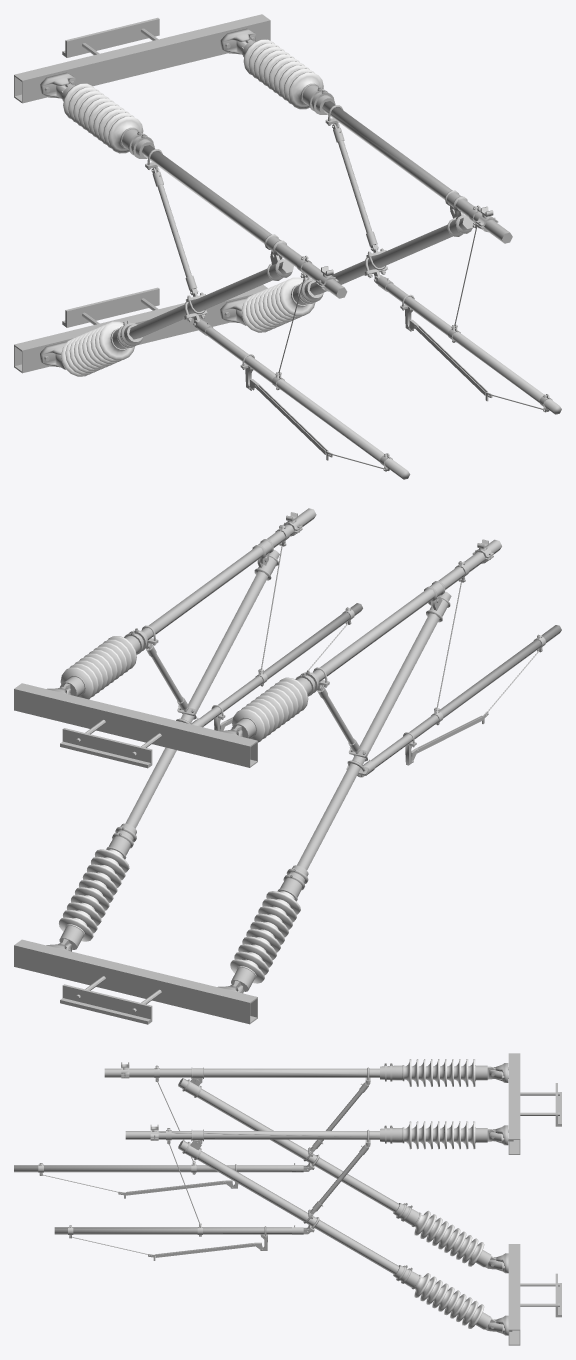
Rendered from single_double_3.obj.
3 renders of one model, top to bottom at view 1: azimuth 30°, elevation 25°; view 2: azimuth 150°, elevation 25°; view 3: azimuth 270°, elevation 25°, orthographic. The views are drawn at different scales.
Parts seen in each view (by area): view 1: 1.074, 1.068, 立方体.427, 1.077, 1.071, 立方体.432, 立方体.429, 立方体.430, 1.069, 1.075, 1.078, 1.072; view 2: 1.074, 1.068, 立方体.427, 立方体.432, 1.077, 1.071, 立方体.430, 立方体.429, 1.075; view 3: 1.074, 1.068, 1.071, 1.077, 立方体.432, 立方体.427, 1.069, 1.075.
Boxes of the visible parts, x1,y1,x2,y2 form: 1.074: (60, 84, 410, 479); 1.068: (241, 40, 561, 414); 立方体.427: (14, 14, 270, 103); 1.077: (61, 83, 143, 376); 1.071: (241, 39, 323, 332); 立方体.432: (14, 285, 267, 373); 立方体.429: (62, 17, 159, 57); 立方体.430: (62, 287, 159, 327); 1.069: (400, 294, 552, 412); 1.075: (240, 354, 392, 471); 1.078: (40, 72, 75, 98); 1.072: (220, 28, 255, 54); 1.074: (231, 539, 561, 993); 1.068: (59, 508, 362, 951); 立方体.427: (14, 683, 257, 767); 立方体.432: (14, 939, 257, 1024); 1.077: (230, 677, 308, 983); 1.071: (59, 636, 136, 941); 立方体.430: (60, 984, 152, 1024); 立方体.429: (60, 728, 152, 768); 1.075: (403, 634, 545, 765); 1.074: (14, 1062, 495, 1268); 1.068: (54, 1124, 495, 1330); 1.071: (404, 1121, 484, 1328); 1.077: (404, 1059, 484, 1266); 立方体.432: (508, 1244, 520, 1345); 立方体.427: (508, 1053, 520, 1154); 1.069: (68, 1225, 267, 1260); 1.075: (38, 1163, 238, 1198).
Size of the model in its own units: 1.72 by 1.98 by 4.65.
